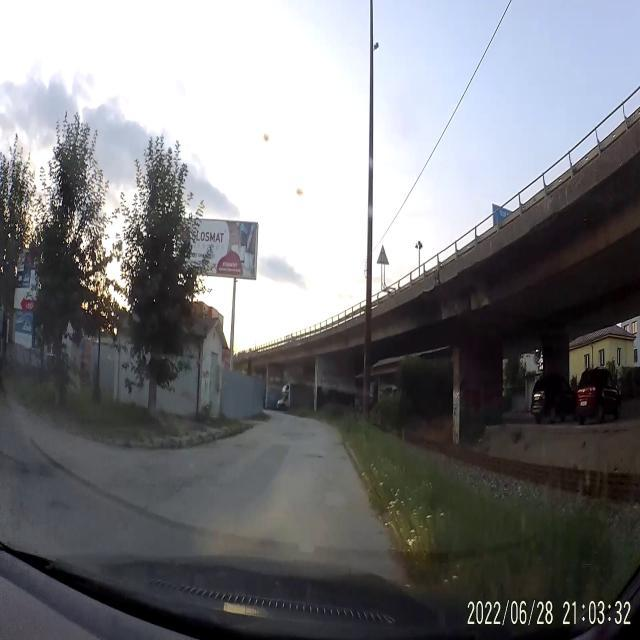Manhole: (282, 431, 301, 438)
Pothole: (306, 448, 324, 462), (337, 453, 347, 463)
